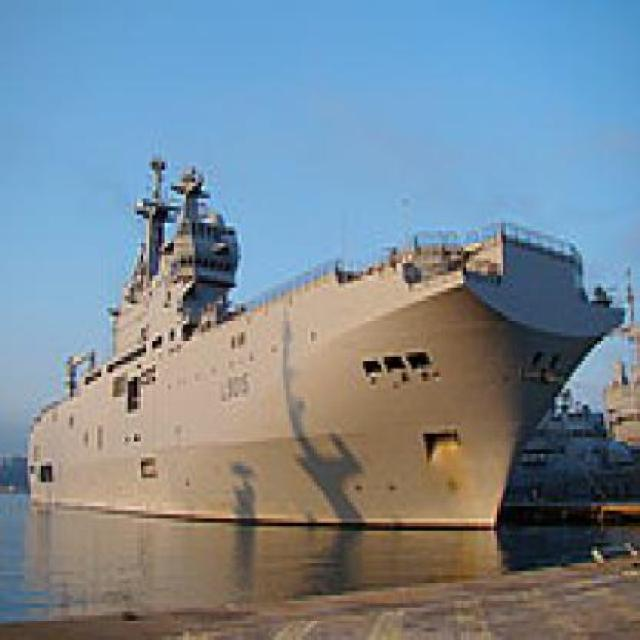warship2: (16, 131, 635, 548)
